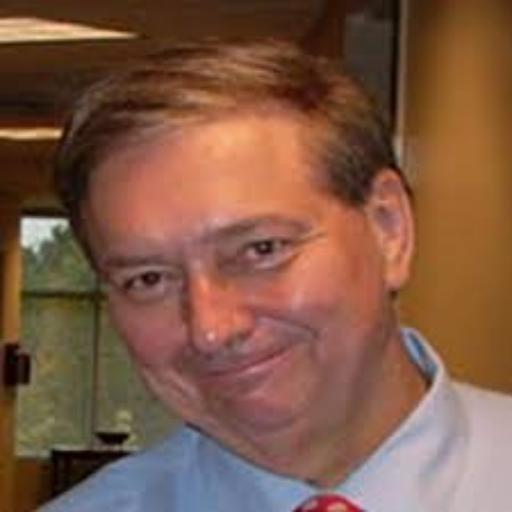left_eye: (231, 236, 304, 267)
left_lip_corner: (274, 346, 303, 367)
right_eye: (122, 272, 179, 298)
right_lip_corner: (194, 367, 209, 385)
